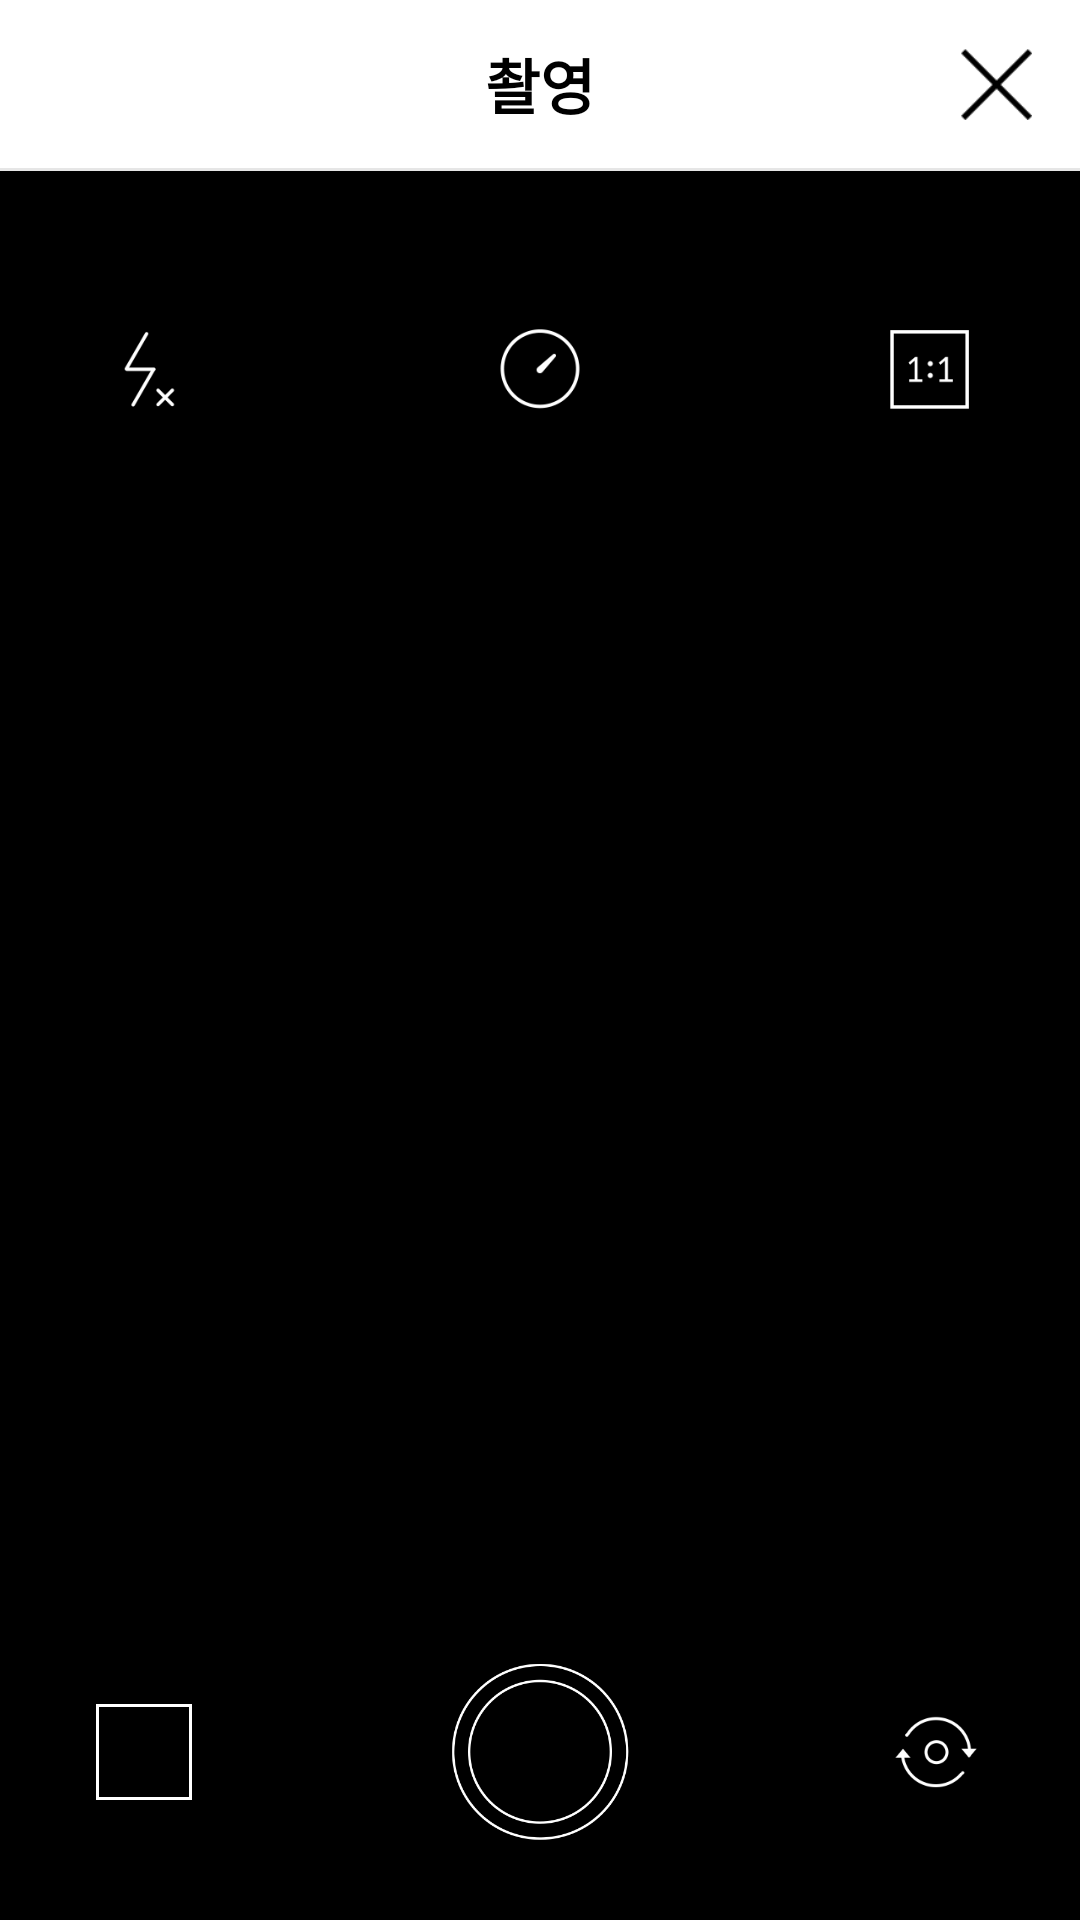

Locate icon controls on the screen. Image size 1080px×1920px, boxes as (x1, y1, x2, y2).
camera change: (895, 1717, 977, 1788)
camera flash off: (124, 332, 175, 407)
camera ratio: (890, 330, 969, 409)
camera shutter: (452, 1664, 629, 1840)
camera timer: (500, 329, 580, 409)
closed: (961, 49, 1032, 120)
